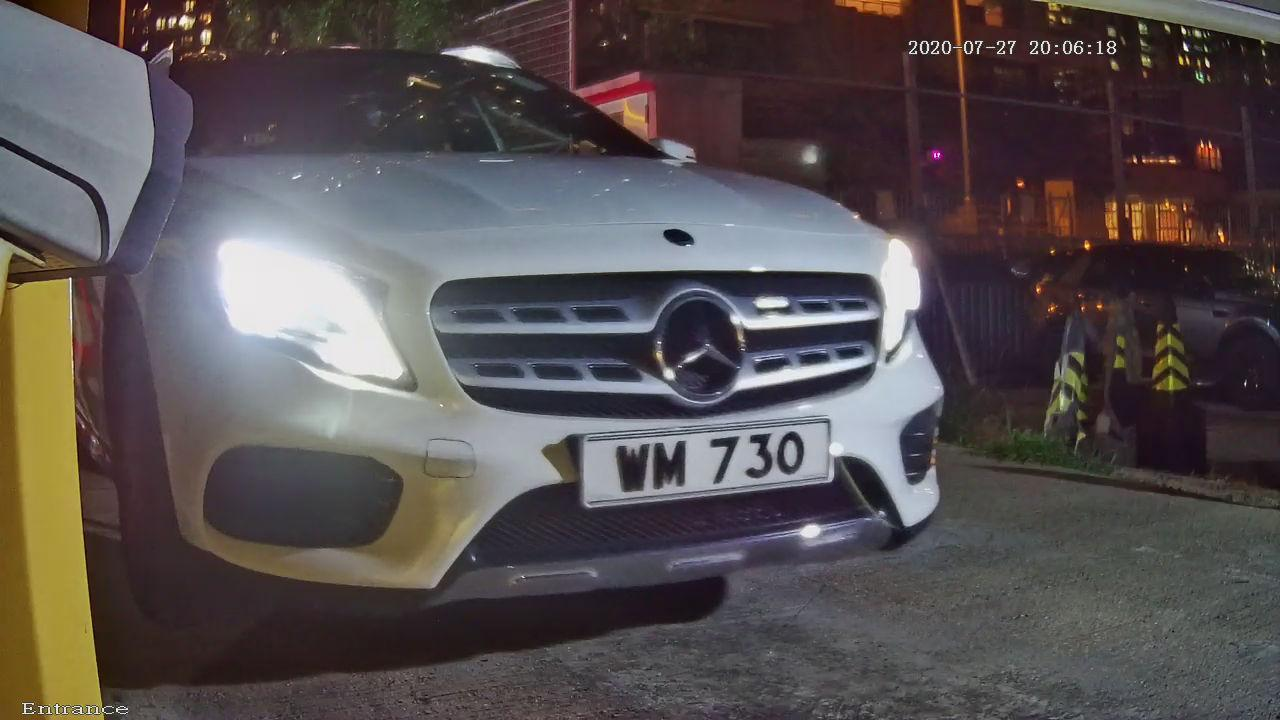privatecar: (69, 29, 989, 647)
